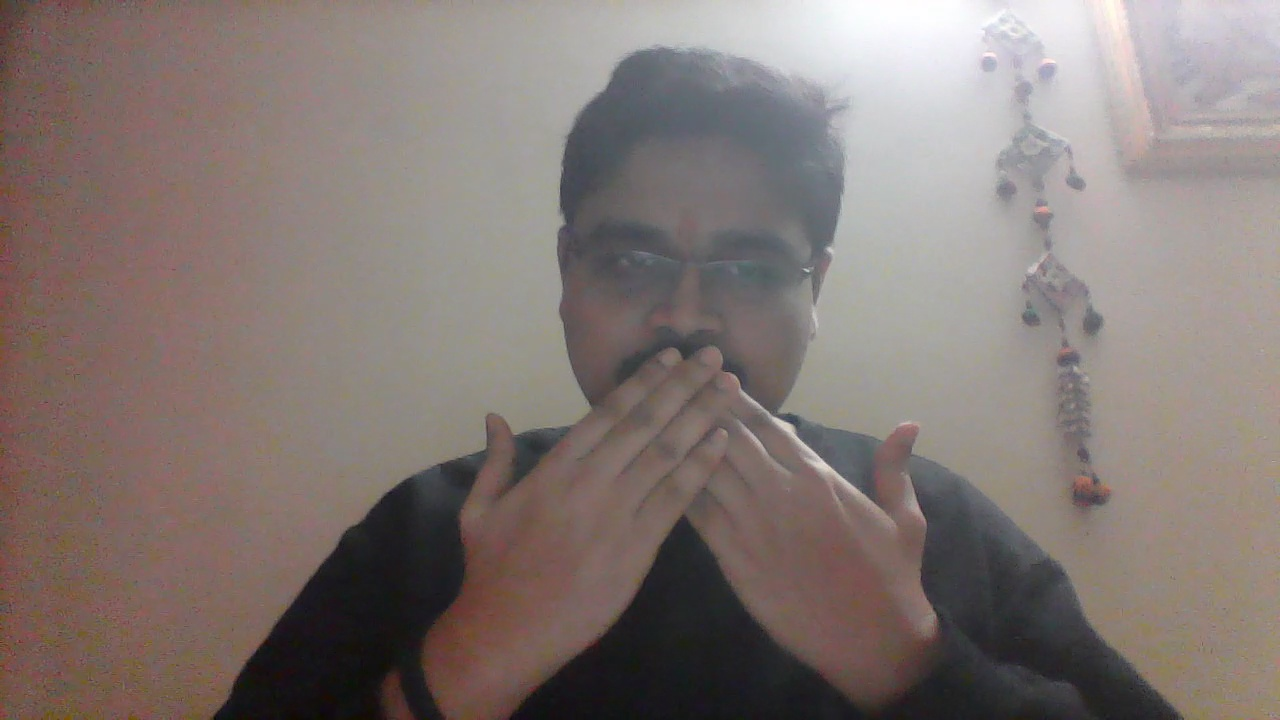Thanks: (443, 343, 935, 668)
